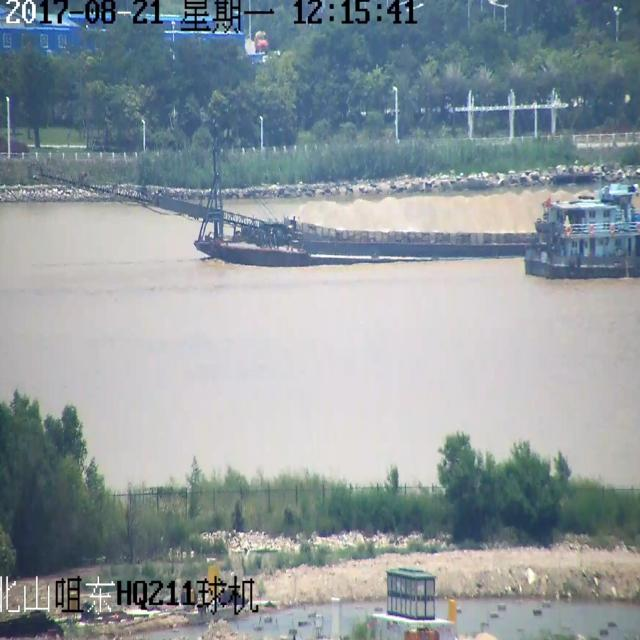cargoship: (156, 146, 640, 307)
